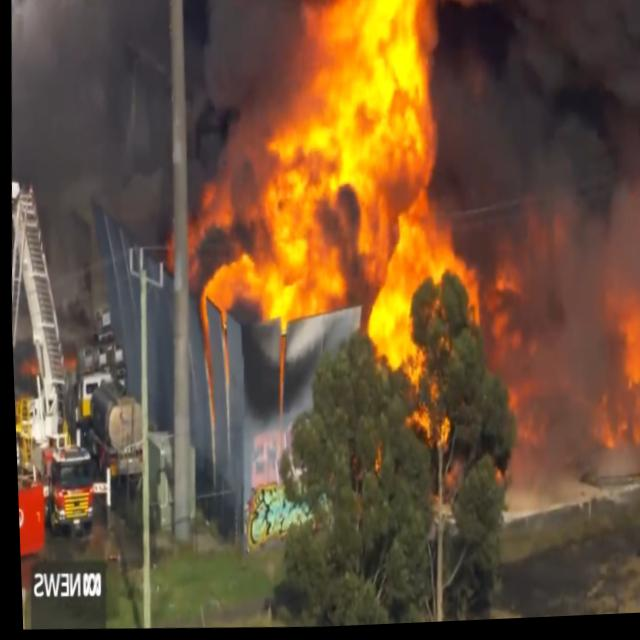Fire: (210, 0, 464, 539), (537, 287, 640, 492), (448, 248, 532, 328)
